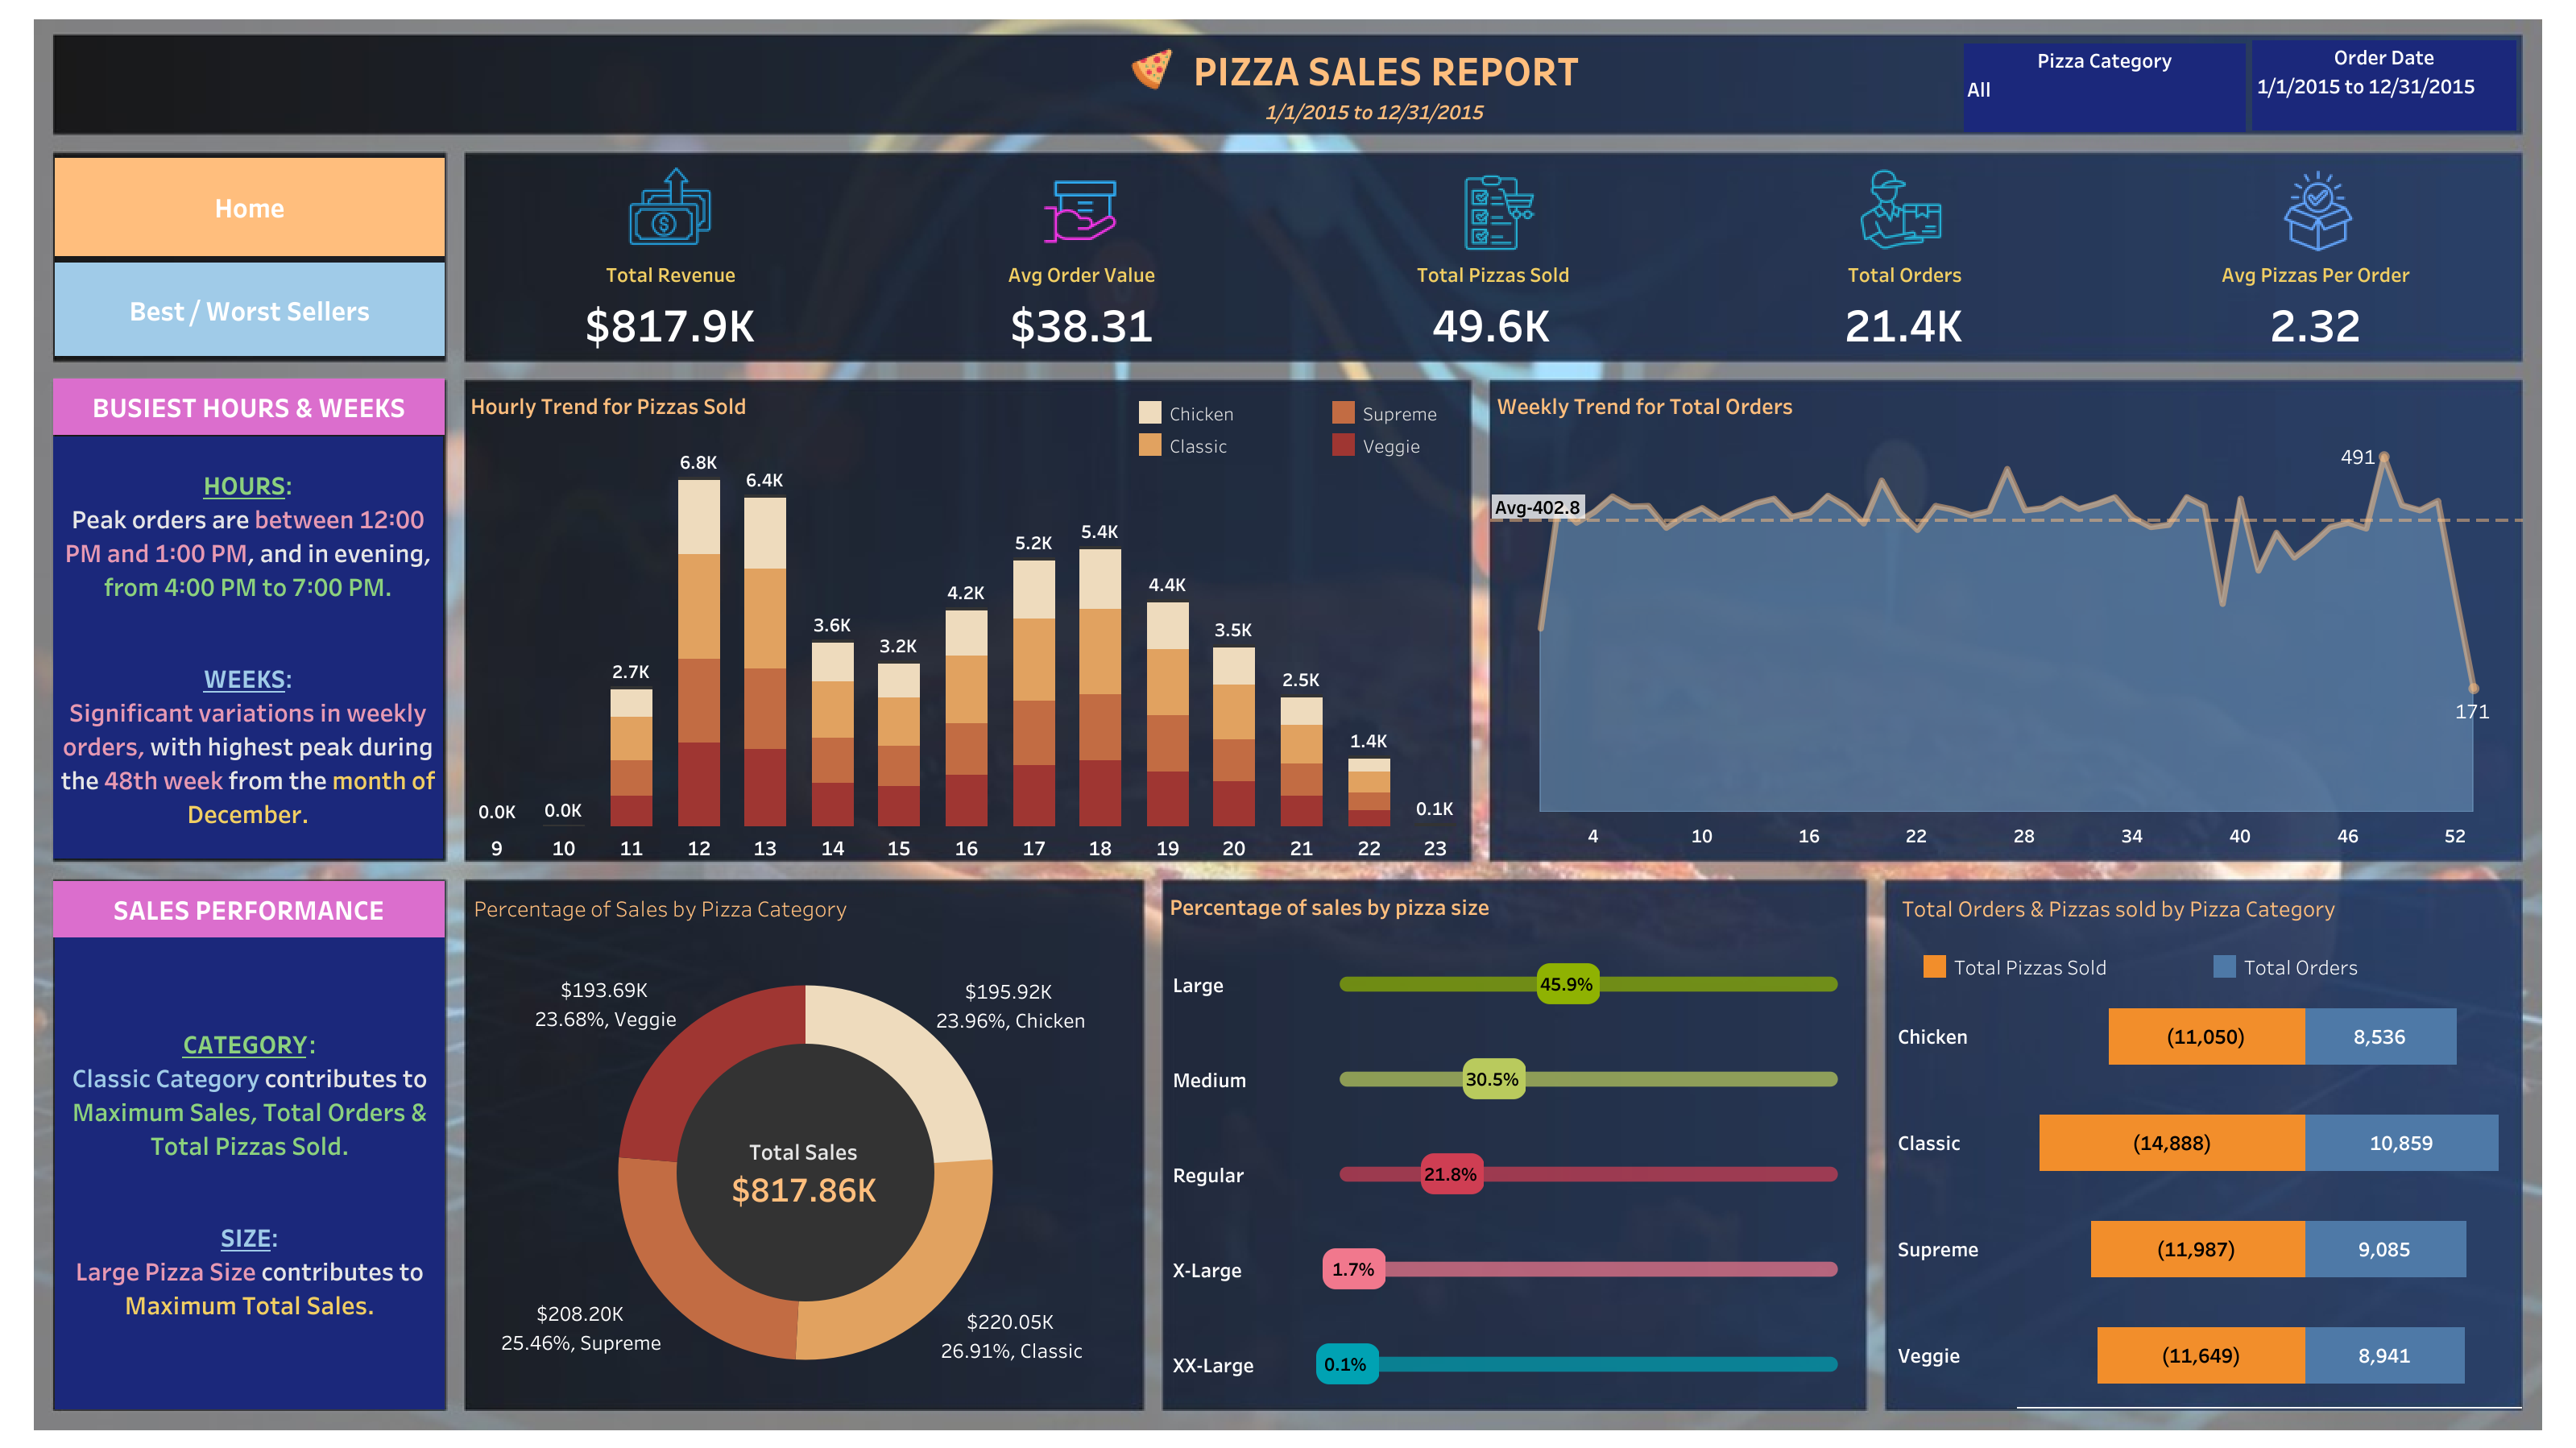

What the dashboard file says about the page in this screenshot:
{"tool":"tableau","page":{"name":"Pizza Sales Dashboard","canvas":[1600,900],"ordinal":1},"visuals":[{"type":"image","param":"Image/Pizza Tableau 1.jpg","box":[8,8,1584,884]},{"type":"filter","title":"Hourly Trend for Pizzas sold","param":"[federated.0n3l2wa1sndtap19aox1i1mwyo5q].[none:order_date:qk]","box":[1398,25,164,56]},{"type":"text","box":[738,26,245,33]},{"type":"filter","title":"Hourly Trend for Pizzas sold","param":"[federated.0n3l2wa1sndtap19aox1i1mwyo5q].[none:pizza_category:nk]","box":[1219,27,175,55]},{"type":"image","param":"Image/pizza-slice.png","box":[693,30,45,26]},{"type":"worksheet","title":"Date Range","mark":"Automatic","box":[740,60,229,19]},{"type":"dashboard-object","box":[34,98,242,61]},{"type":"image","param":"Image/profit-growth.png","box":[369,99,95,58]},{"type":"image","param":"Image/delivery-man.png","box":[1136,104,88,52]},{"type":"image","param":"Image/shipping-box.png","box":[627,106,88,51]},{"type":"image","param":"Image/order (1).png","box":[1405,106,68,50]},{"type":"image","param":"Image/order-delivery.png","box":[896,108,70,48]},{"type":"worksheet","title":"KPI Banner","mark":"Automatic","box":[289,139,1276,85]},{"type":"dashboard-object","box":[34,163,242,58]},{"type":"text","box":[33,235,243,35]},{"type":"worksheet","title":"Hourly Trend for Pizzas sold","mark":"Bar","rows":["Calculation_1626784687252942851","Calculation_1626784687252942851"],"cols":["order_time"],"box":[288,236,624,299]},{"type":"worksheet","title":"Weekly Trend for Total Orders","mark":"Area","rows":["Calculation_1626784687252590593","Calculation_1626784687252590593"],"cols":["order_date"],"box":[925,236,641,297]},{"type":"legend","title":"Hourly Trend for Pizzas sold","param":"[federated.0n3l2wa1sndtap19aox1i1mwyo5q].[none:pizza_category:nk]","box":[704,246,259,43]},{"type":"text","box":[33,271,242,262]},{"type":"text","box":[33,547,243,35]},{"type":"worksheet","title":"Percentage of sales by pizza size","mark":"Line","rows":["pizza_size"],"box":[722,547,434,329]},{"type":"worksheet","title":"Percentage of sales by Pizza Category","mark":"Pie","rows":["Calculation_1626784687673266182","Calculation_1626784687673323528"],"box":[290,548,420,326]},{"type":"text","box":[1178,548,275,30]},{"type":"text","box":[34,582,242,293]},{"type":"legend","title":"Total Orders & Pizzas sold by Pizza Category","param":"[federated.0n3l2wa1sndtap19aox1i1mwyo5q].[:Measure Names]","box":[1191,590,365,20]},{"type":"worksheet","title":"Total Orders & Pizzas sold by Pizza Category","mark":"Automatic","rows":["pizza_category"],"box":[1172,610,393,264]}]}

Visuals, with their boxes in screenshot pixels (x1, y1, x2, y2), scaled from the page's 1600x900 canvas onto the 2576x1448 screenshot:
image: locate(13, 13, 2563, 1435)
"Hourly Trend for Pizzas sold" filter: locate(2251, 40, 2515, 130)
text: locate(1188, 42, 1583, 95)
"Hourly Trend for Pizzas sold" filter: locate(1962, 43, 2244, 132)
image: locate(1116, 48, 1188, 90)
"Date Range" worksheet: locate(1191, 97, 1560, 127)
dashboard-object: locate(55, 158, 445, 256)
image: locate(594, 159, 747, 253)
image: locate(1829, 168, 1970, 251)
image: locate(1009, 171, 1151, 253)
image: locate(2262, 171, 2371, 251)
image: locate(1443, 174, 1555, 251)
"KPI Banner" worksheet: locate(466, 224, 2520, 361)
dashboard-object: locate(55, 263, 445, 356)
text: locate(53, 378, 445, 434)
"Hourly Trend for Pizzas sold" worksheet (Bar marks): locate(464, 379, 1468, 861)
"Weekly Trend for Total Orders" worksheet (Area marks): locate(1489, 379, 2521, 858)
"Hourly Trend for Pizzas sold" legend: locate(1133, 395, 1551, 465)
text: locate(53, 436, 443, 858)
text: locate(53, 880, 445, 937)
"Percentage of sales by pizza size" worksheet (Line marks): locate(1162, 880, 1862, 1409)
"Percentage of sales by Pizza Category" worksheet (Pie marks): locate(467, 882, 1143, 1406)
text: locate(1897, 882, 2339, 930)
text: locate(55, 937, 445, 1408)
"Total Orders & Pizzas sold by Pizza Category" legend: locate(1918, 949, 2505, 982)
"Total Orders & Pizzas sold by Pizza Category" worksheet: locate(1887, 982, 2520, 1406)
